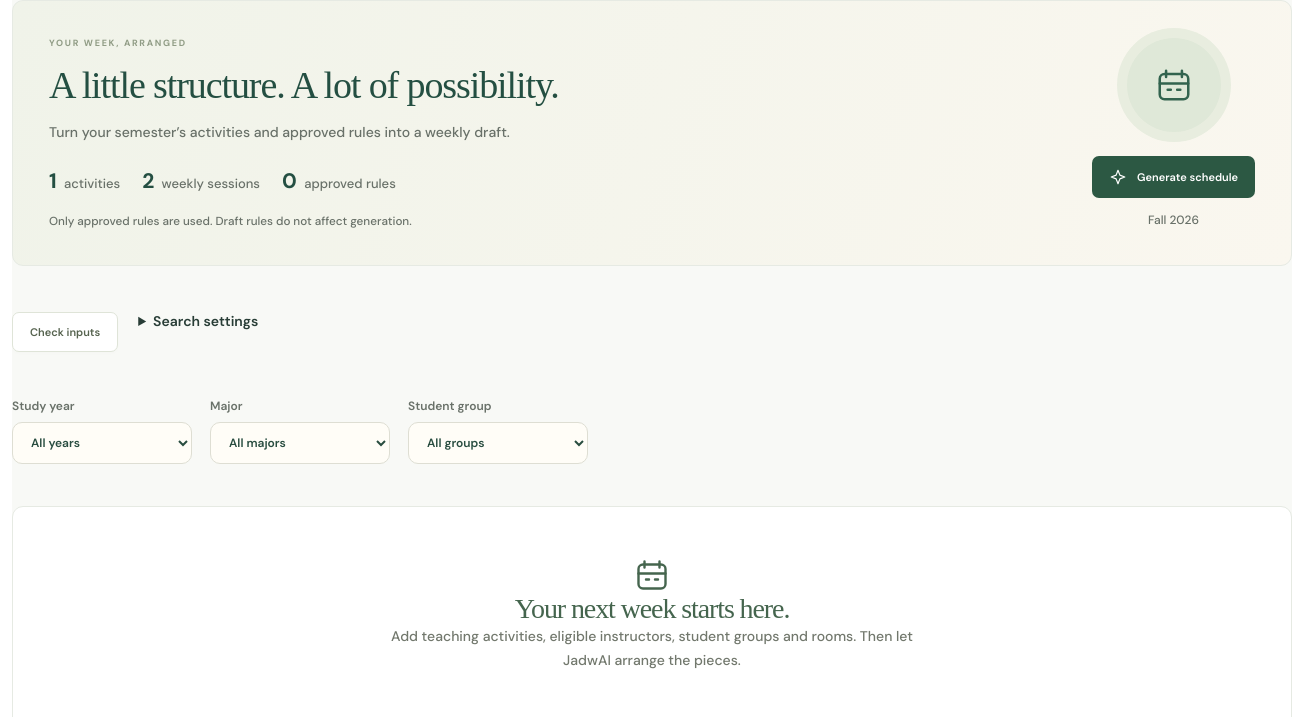
Test: network retries reuse the same generation key
Later steps or results of the test are not shown.
Click the button "Generate schedule". click: (1174, 177)
box: x1=1092 y1=156 x2=1255 y2=198
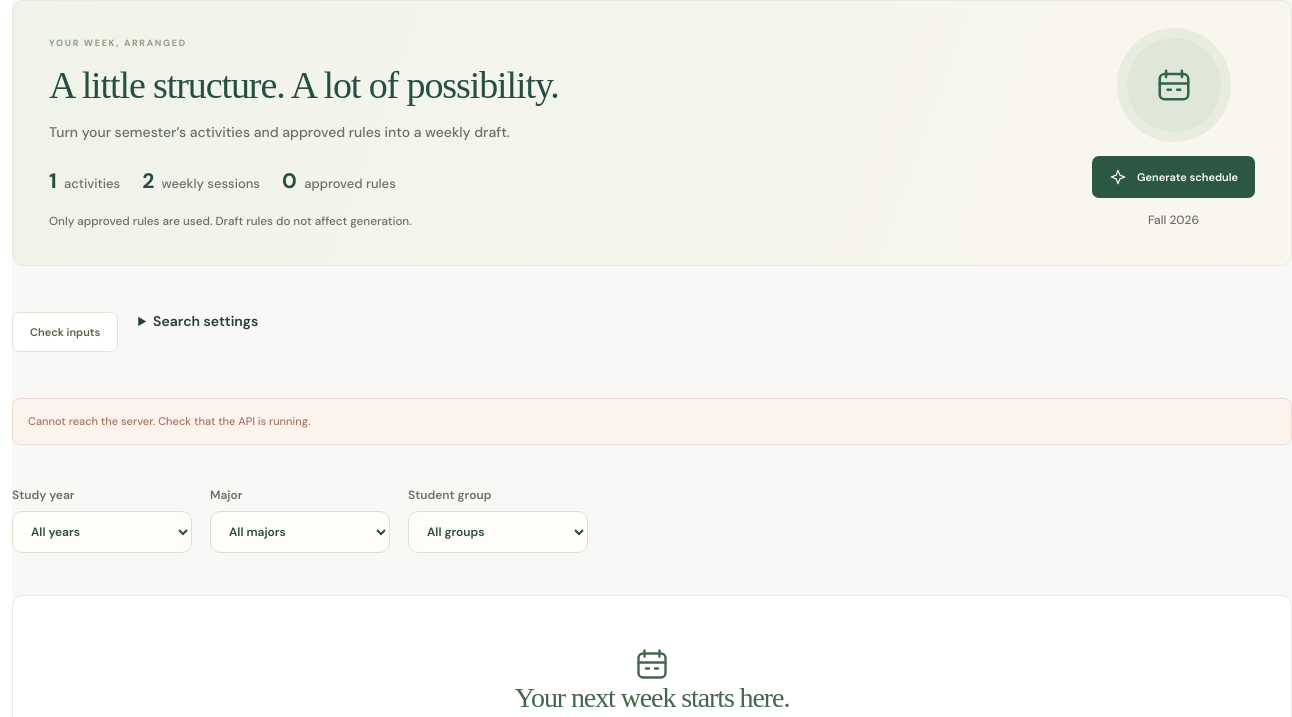
Check: the message "Cannot reach the server. Check that the API is running." is shown, box x1=12 y1=398 x2=1291 y2=445
